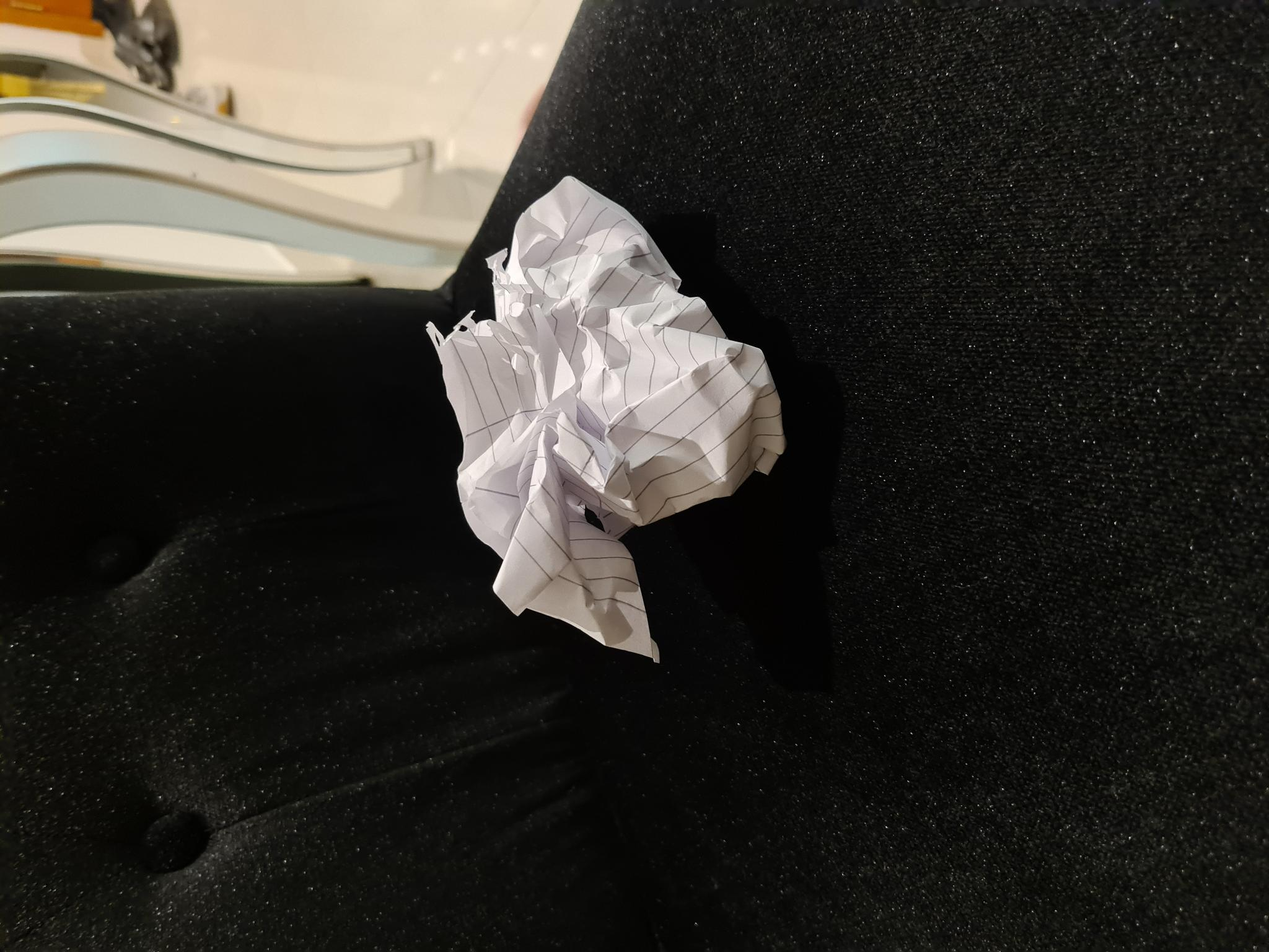Kertas: (271, 414, 798, 802)
